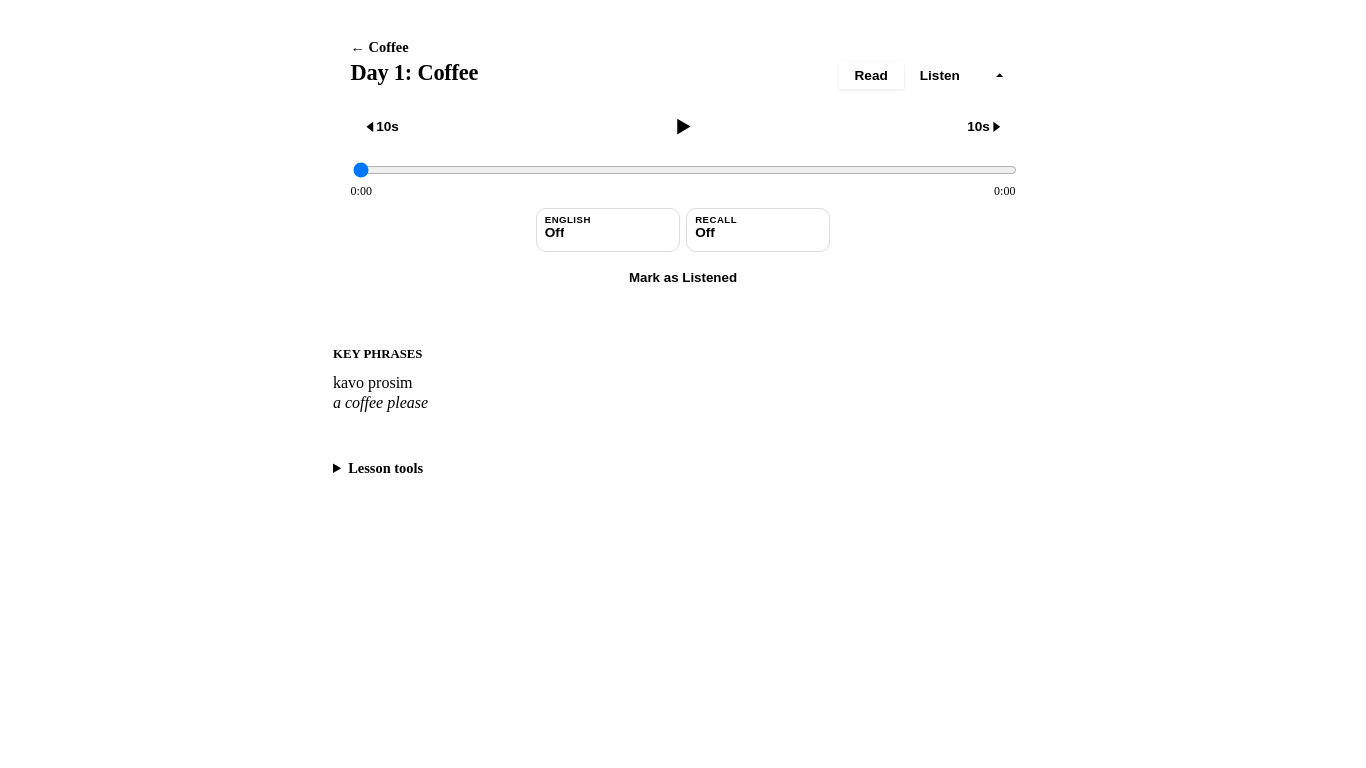
Scenario: /c/[curriculumId]/l/[lessonId] page › shows error when markAsListened fails in preview modal
Click the button "Listen".
click(940, 76)  # box left=904, top=62, right=976, bottom=89
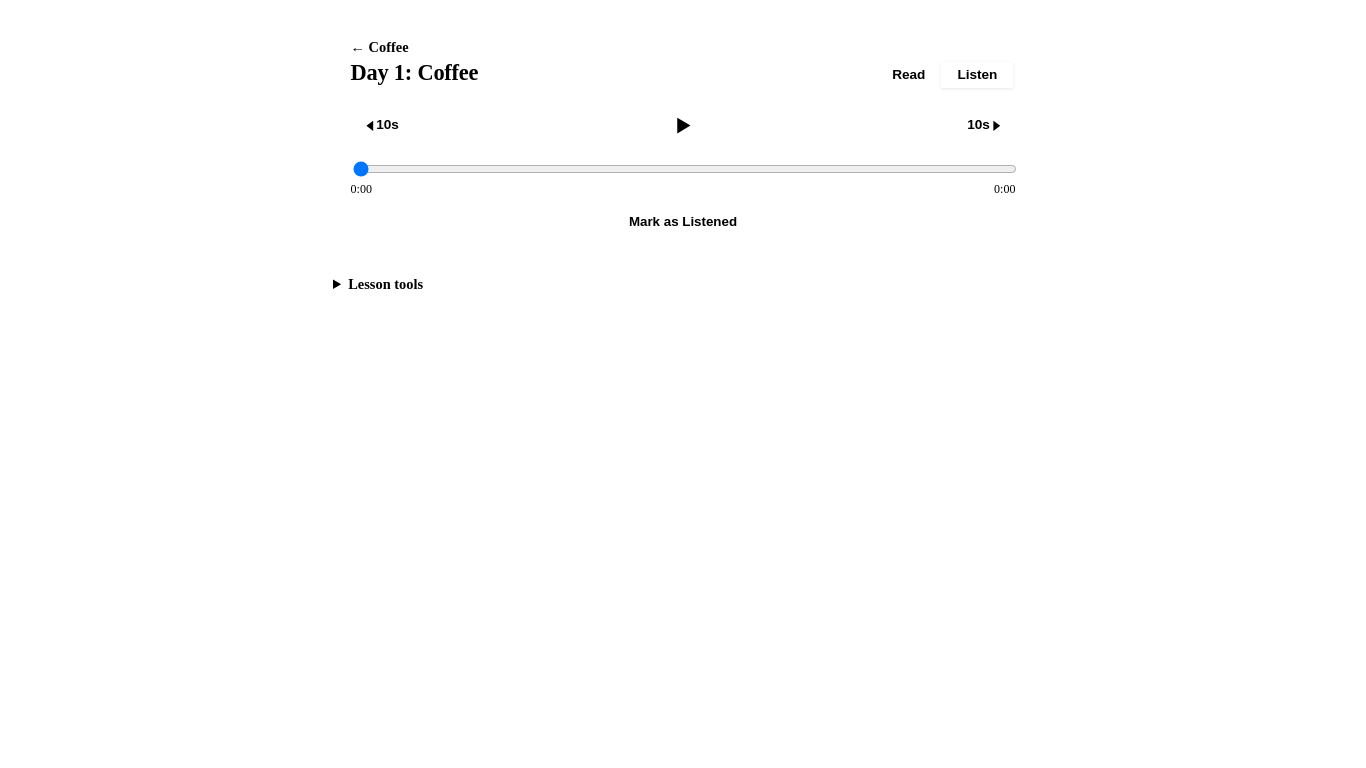
Click the button "Mark as Listened".
click(683, 222)  # box left=609, top=206, right=757, bottom=237
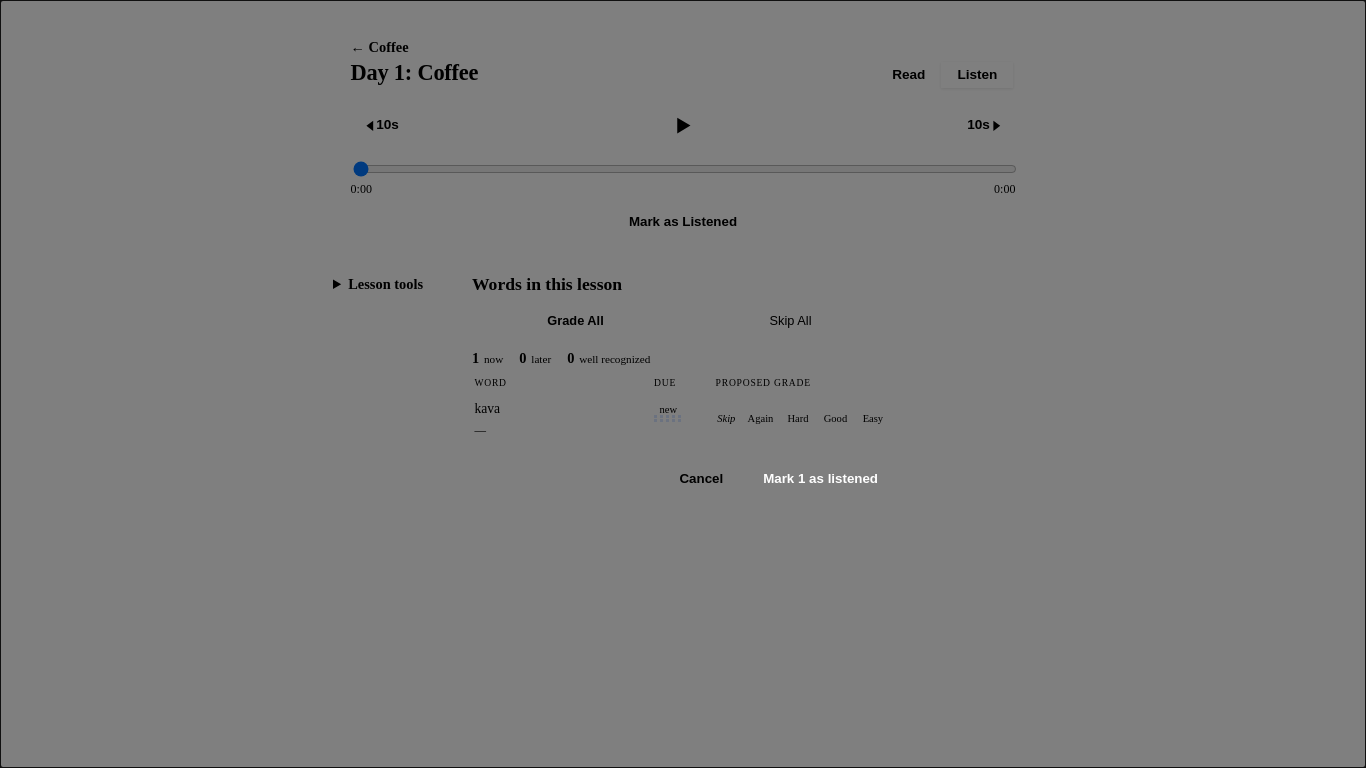
Click the button "Mark 1 as listened".
click(821, 479)  # box left=747, top=463, right=894, bottom=494
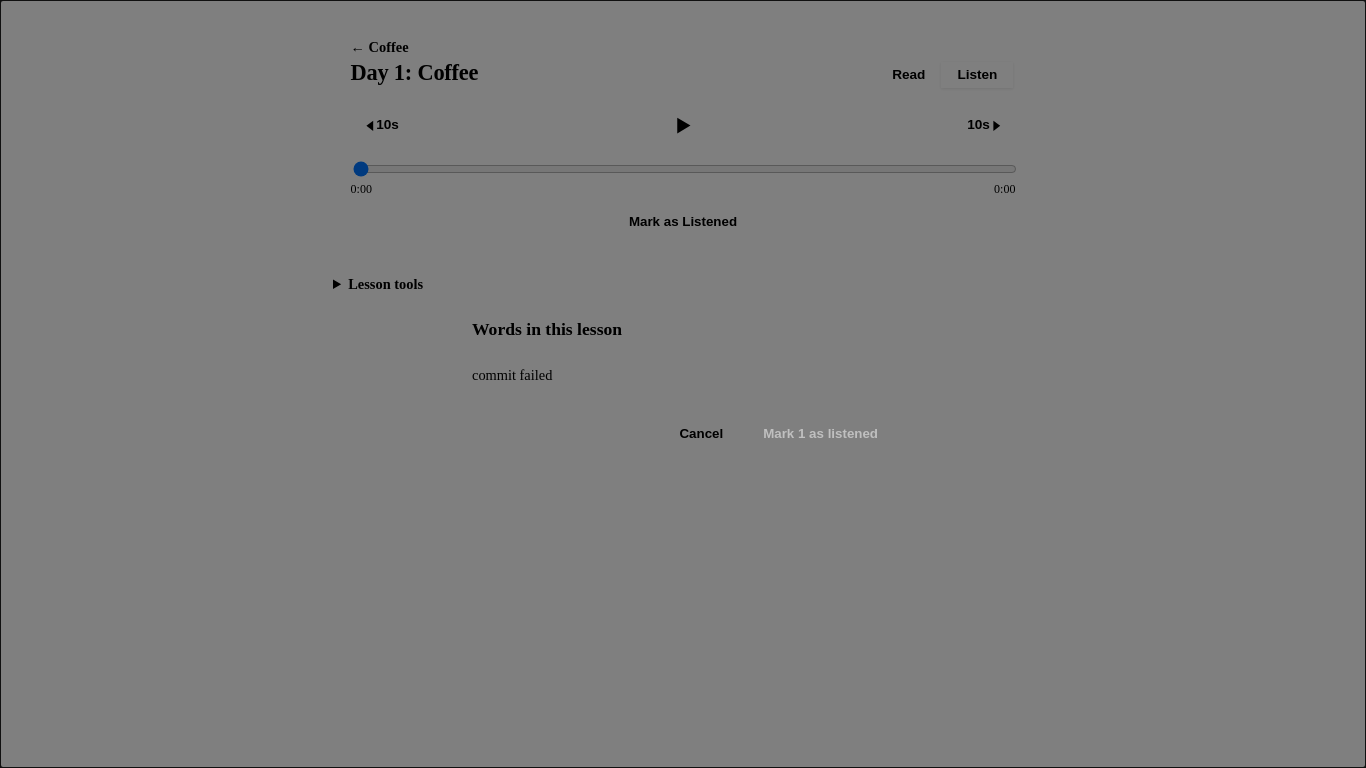
Expected: the text "commit failed" is shown, left=472, top=366, right=552, bottom=382
